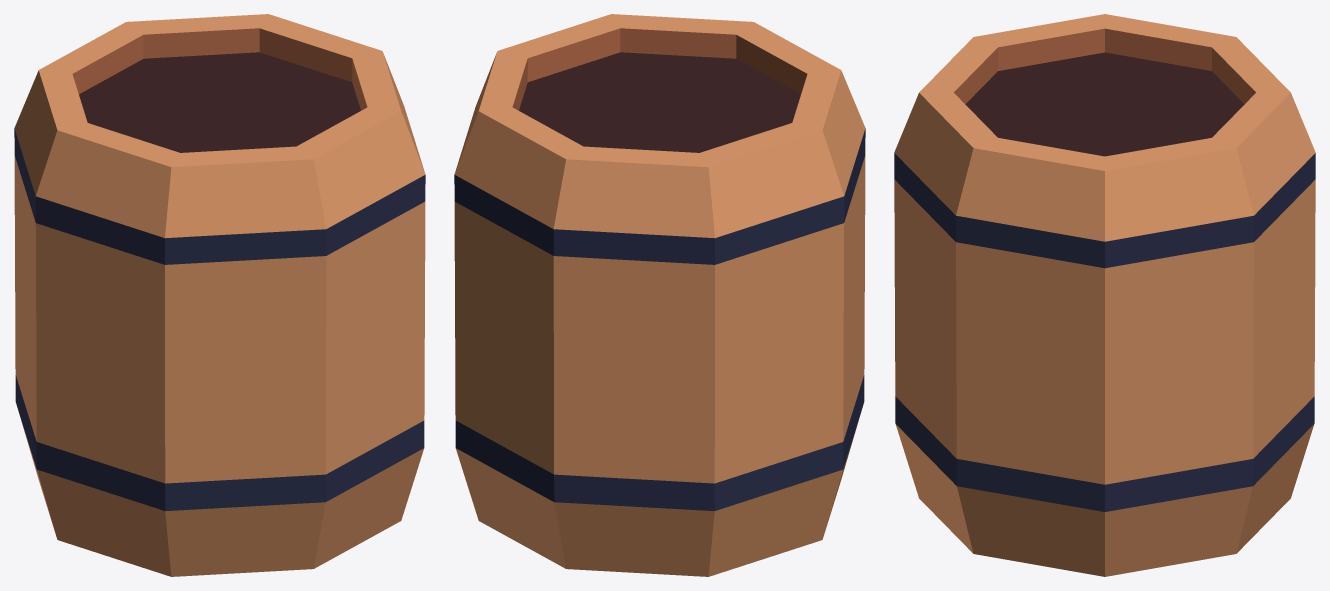
Rendered from varil.gltf.
3 renders of one model, left to right at view 1: azimuth 30°, elevation 25°; view 2: azimuth 150°, elevation 25°; view 3: azimuth 270°, elevation 25°, orthographic.
Visible parts, largest first — view 1: Cylinder; view 2: Cylinder; view 3: Cylinder.
Part boxes in pixels (x1,y1,x2,y2): Cylinder: (14,14,425,576); Cylinder: (454,14,865,576); Cylinder: (894,14,1315,576).
Size of the model in its own units: 1.91 by 2.03 by 1.91.
1 material, 1 textured.
